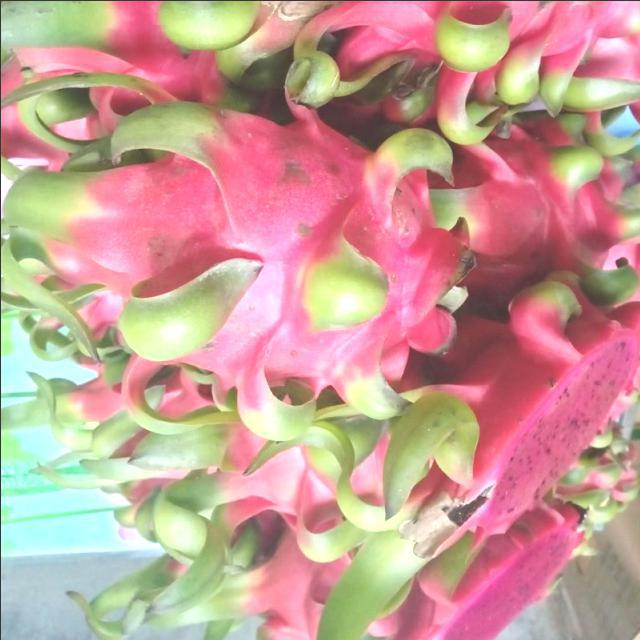do: (9, 98, 480, 416), (391, 281, 639, 550), (161, 384, 439, 548), (325, 0, 639, 119), (424, 130, 639, 299), (0, 1, 306, 116), (162, 523, 415, 639), (385, 506, 594, 639)
